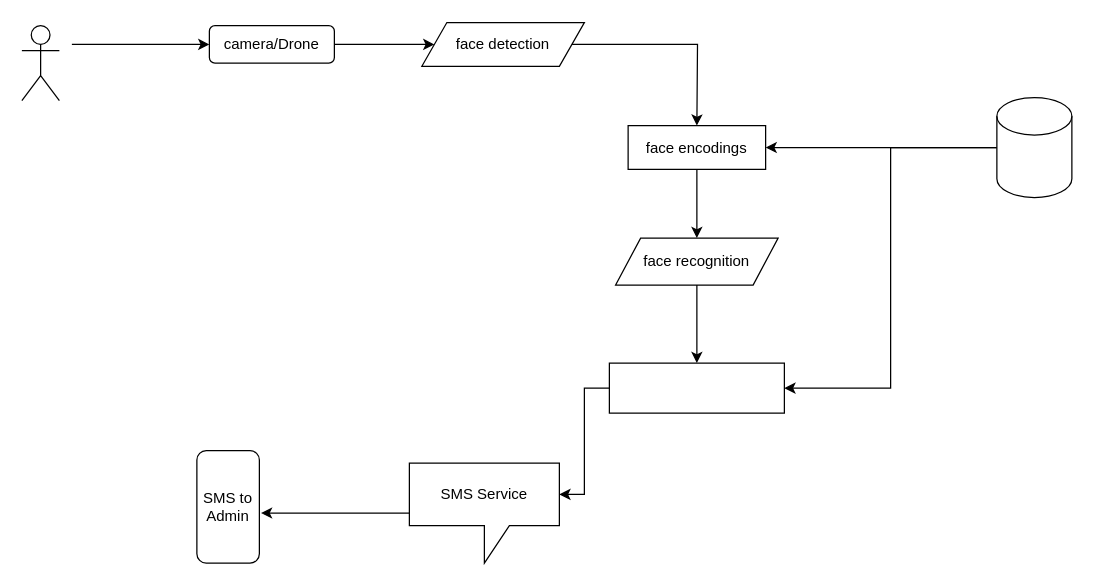
This 1094x585 diagram has some shape labels left out. The centre of each missing label's shape, as x and y in pixels:
"Actor" goes at point (40, 62).
"database" goes at point (1034, 147).
"details of the person downloaded" goes at point (696, 387).
